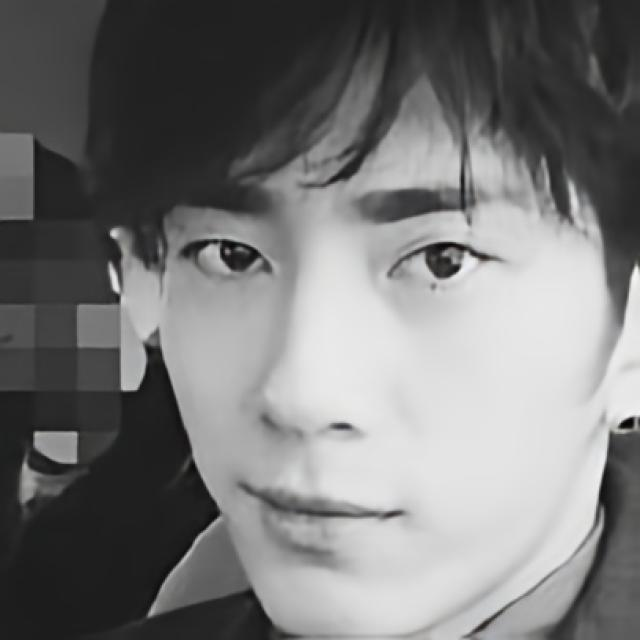content: (164, 0, 608, 637)
